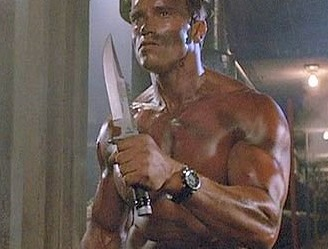knife: (97, 27, 150, 185)
